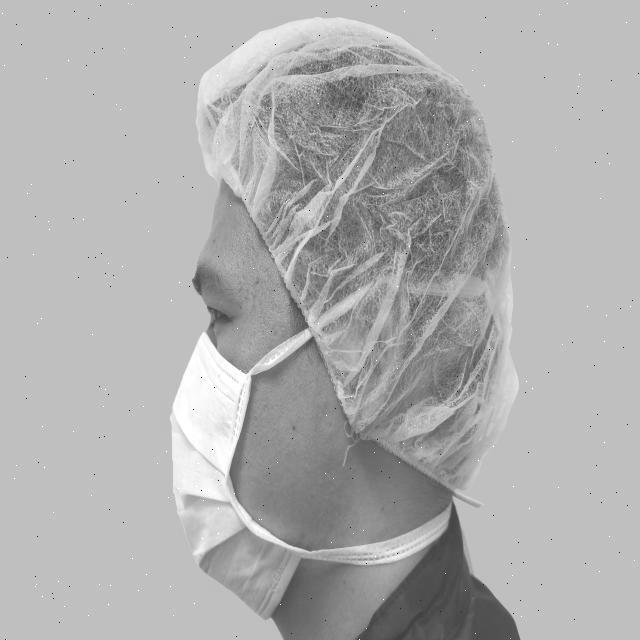fake: (131, 294, 472, 640)
real: (186, 179, 305, 626)
